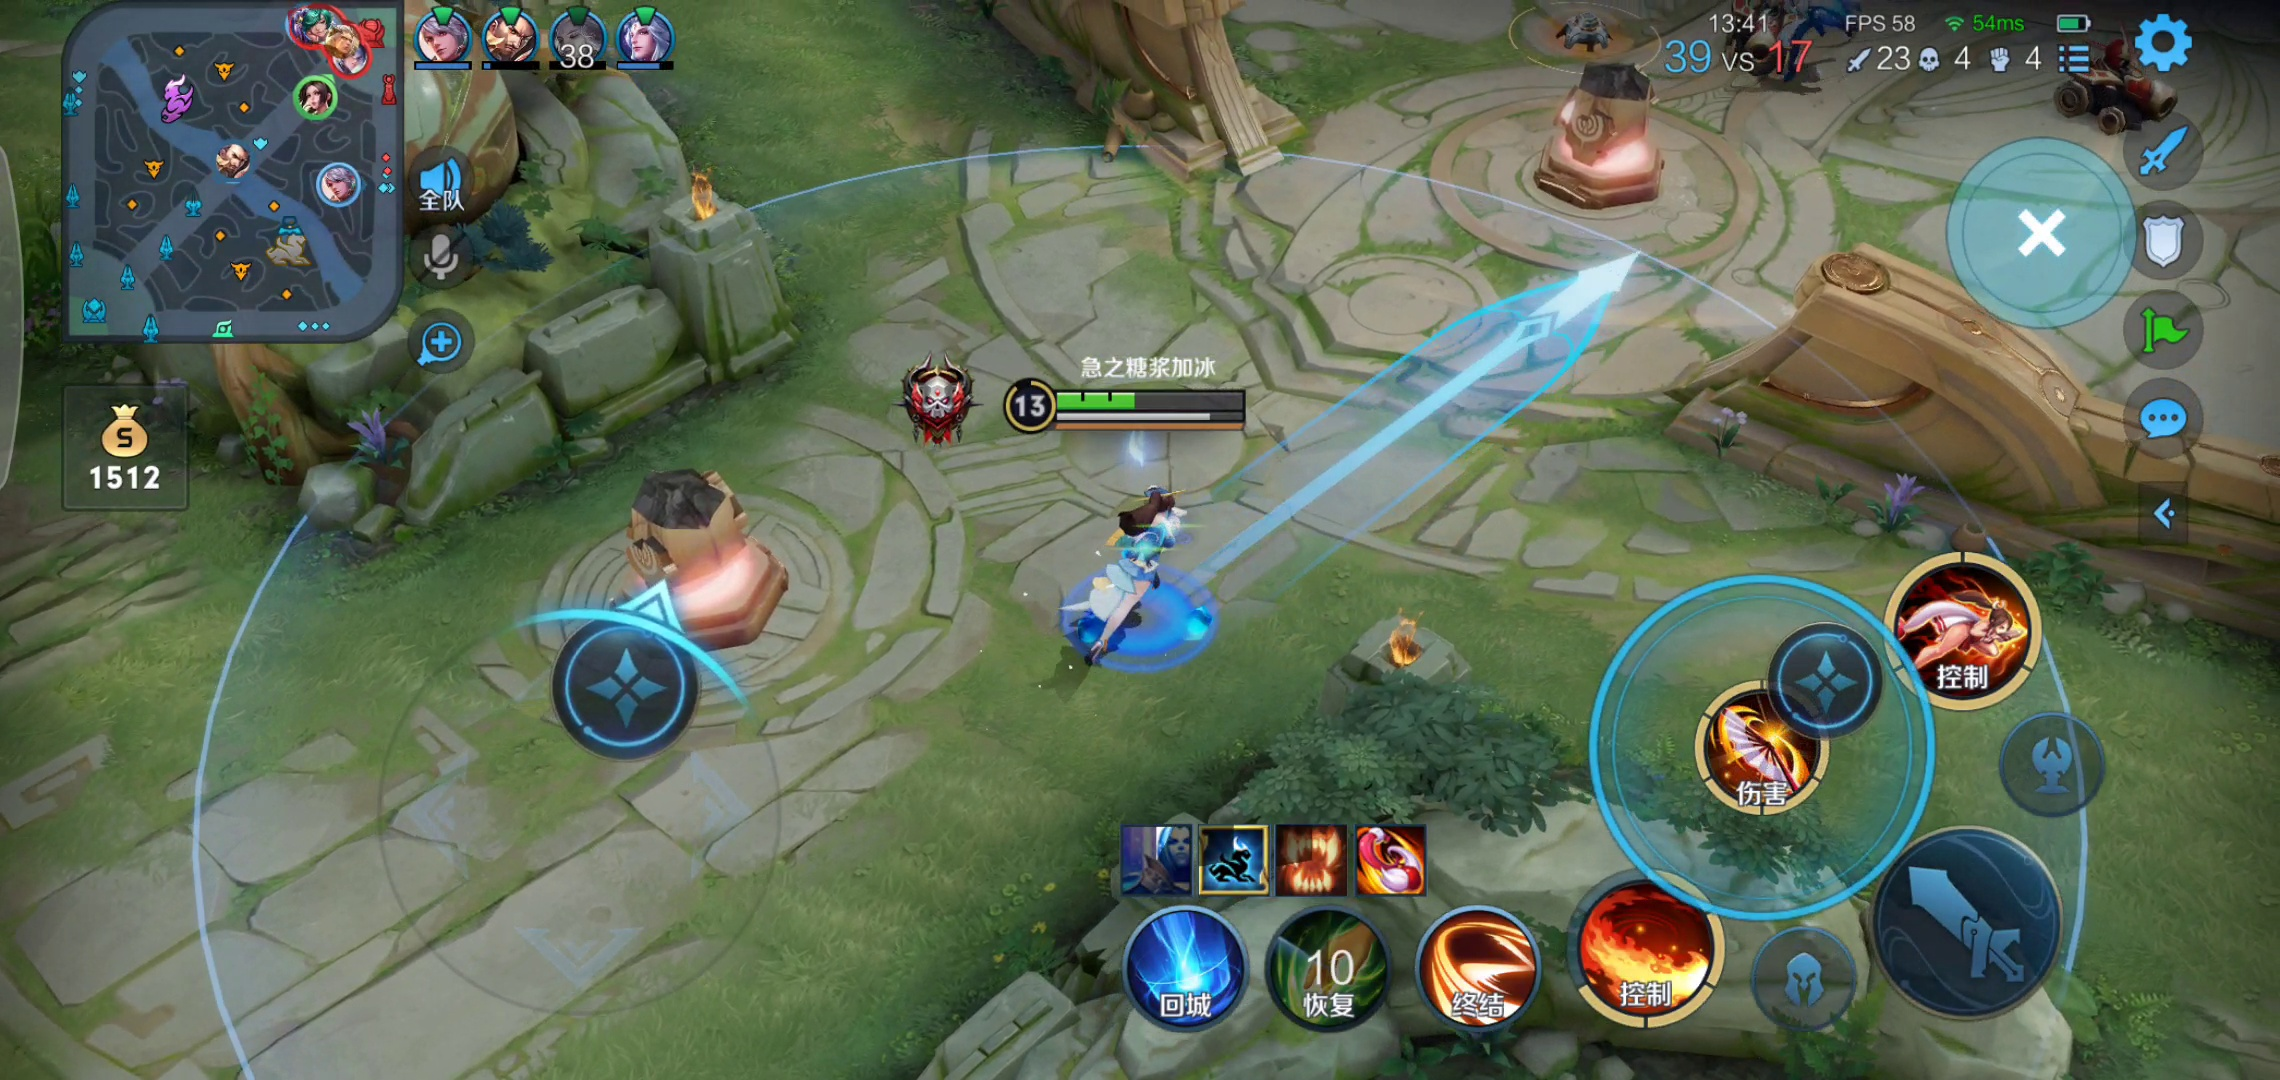hero: (1040, 467, 1217, 674)
soldier: (2044, 41, 2185, 135), (1730, 1, 1786, 78)
tower: (550, 462, 810, 656), (1533, 63, 1679, 205)
